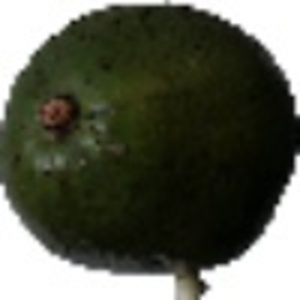abacate: (1, 3, 297, 266)
